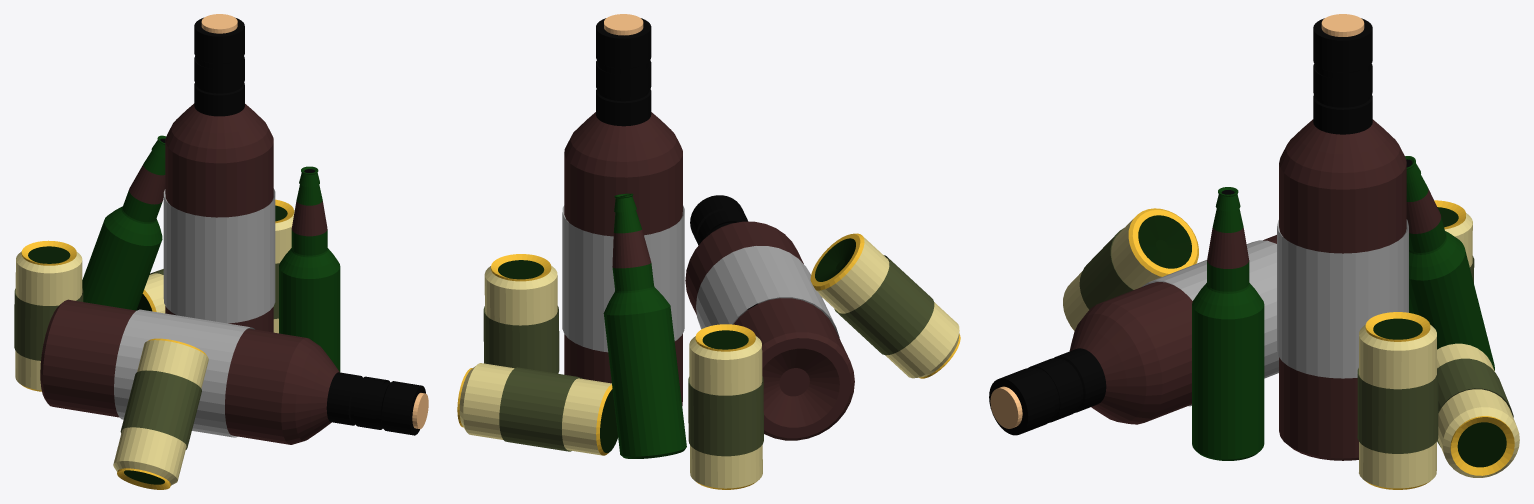
File: drinkbottles (1).fbx
The picture shows the model from 3 angles, left to right: view 1: azimuth 30°, elevation 25°; view 2: azimuth 150°, elevation 25°; view 3: azimuth 270°, elevation 25°; orthographic projection. The views are drawn at different scales.
Visible parts, largest first — view 1: wine.001, wine, can.003, beer, beer.001, can.004, can.001, can; view 2: wine, wine.001, beer.001, can.004, can.003, can, can.001; view 3: wine, wine.001, beer, can.001, beer.001, can, can.003, can.004.
Part boxes in pixels (x1,y1,x2,y2): wine.001: [40, 299, 428, 444]; wine: [163, 14, 275, 332]; can.003: [113, 338, 208, 489]; beer: [279, 166, 340, 372]; beer.001: [82, 135, 166, 310]; can.004: [14, 240, 83, 391]; can.001: [273, 199, 294, 333]; can: [136, 269, 165, 313]; wine: [562, 14, 684, 405]; wine.001: [685, 195, 854, 440]; beer.001: [603, 193, 686, 458]; can.004: [688, 324, 763, 489]; can.003: [810, 233, 960, 378]; can: [457, 363, 617, 455]; can.001: [483, 254, 559, 373]; wine: [1277, 14, 1408, 460]; wine.001: [989, 235, 1278, 435]; beer: [1192, 187, 1264, 460]; can.001: [1357, 312, 1438, 489]; beer.001: [1405, 156, 1494, 370]; can: [1437, 343, 1519, 477]; can.003: [1063, 208, 1198, 330]; can.004: [1434, 200, 1474, 282].
Bounding box in the file's own units: 151 × 169 × 195.
